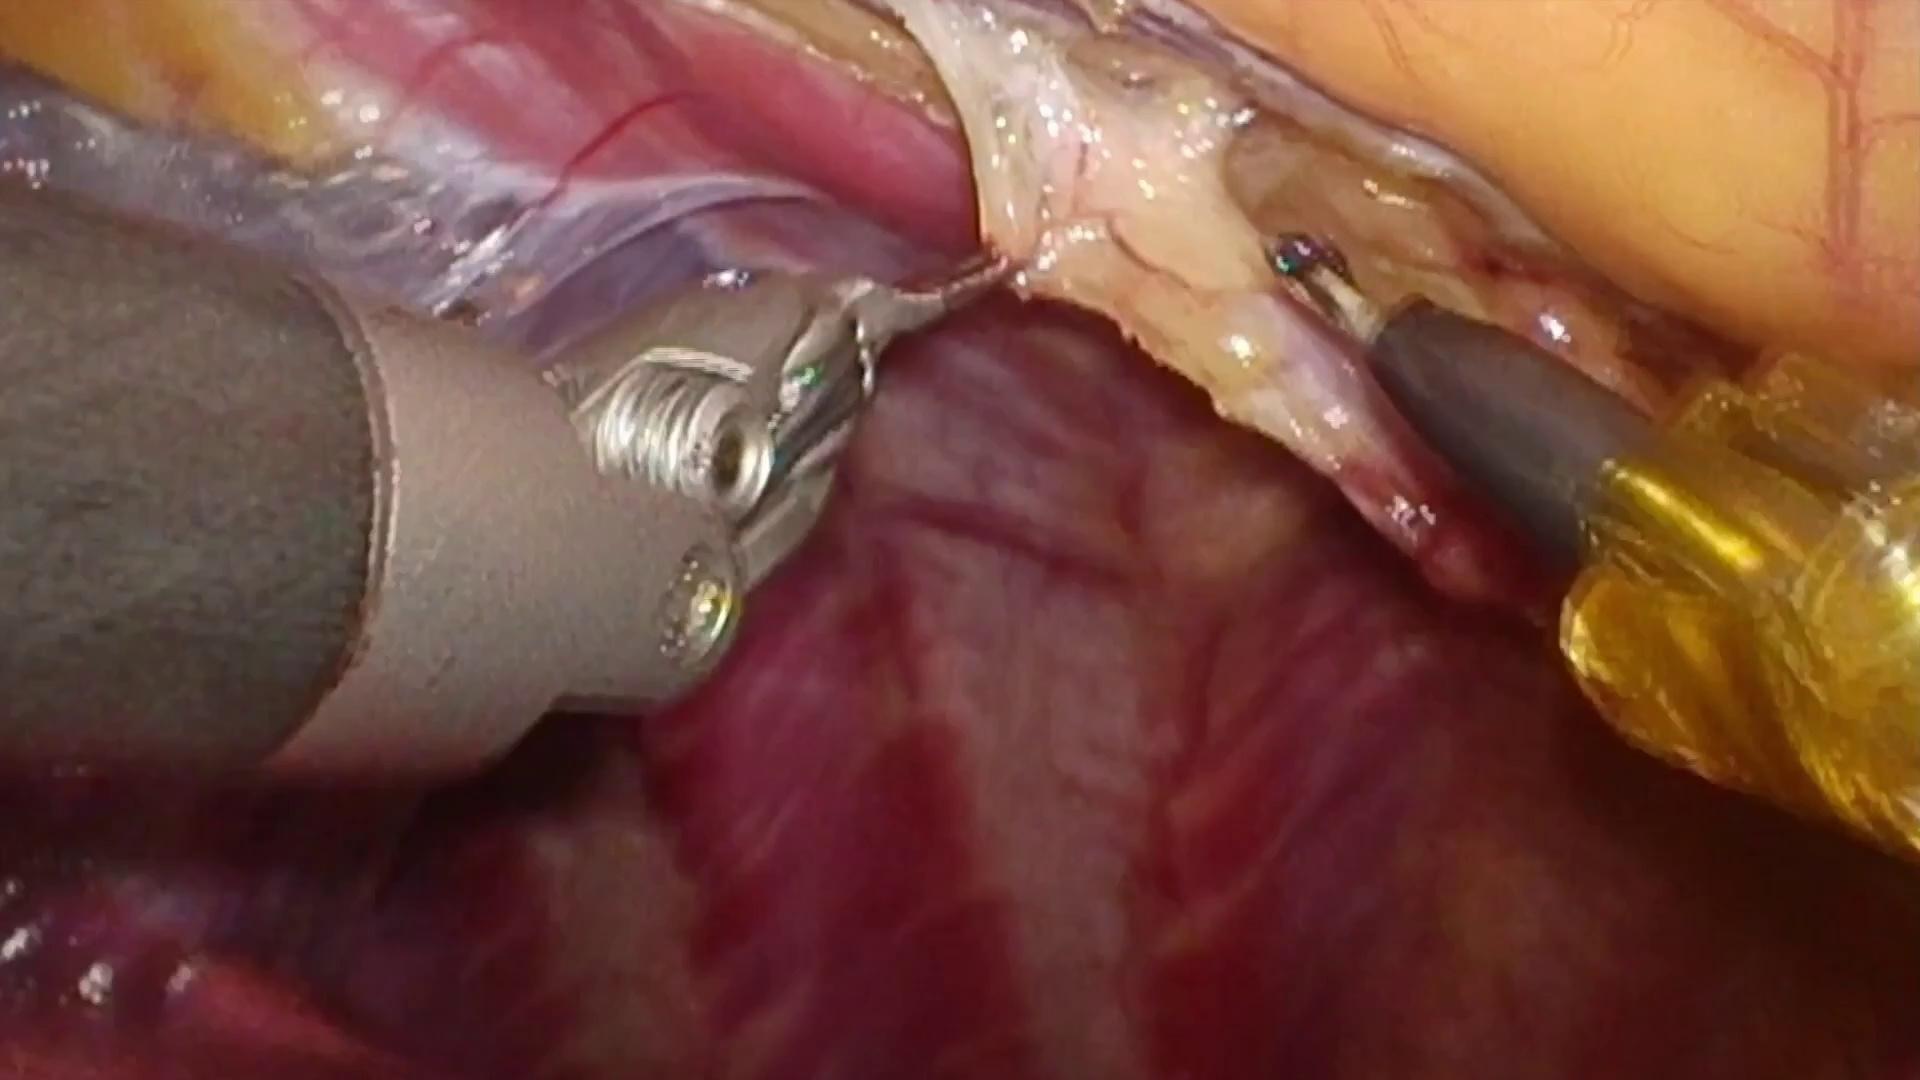Cautery_Spatula: (1270, 236, 1656, 555)
Debakey: (829, 224, 1043, 373)
